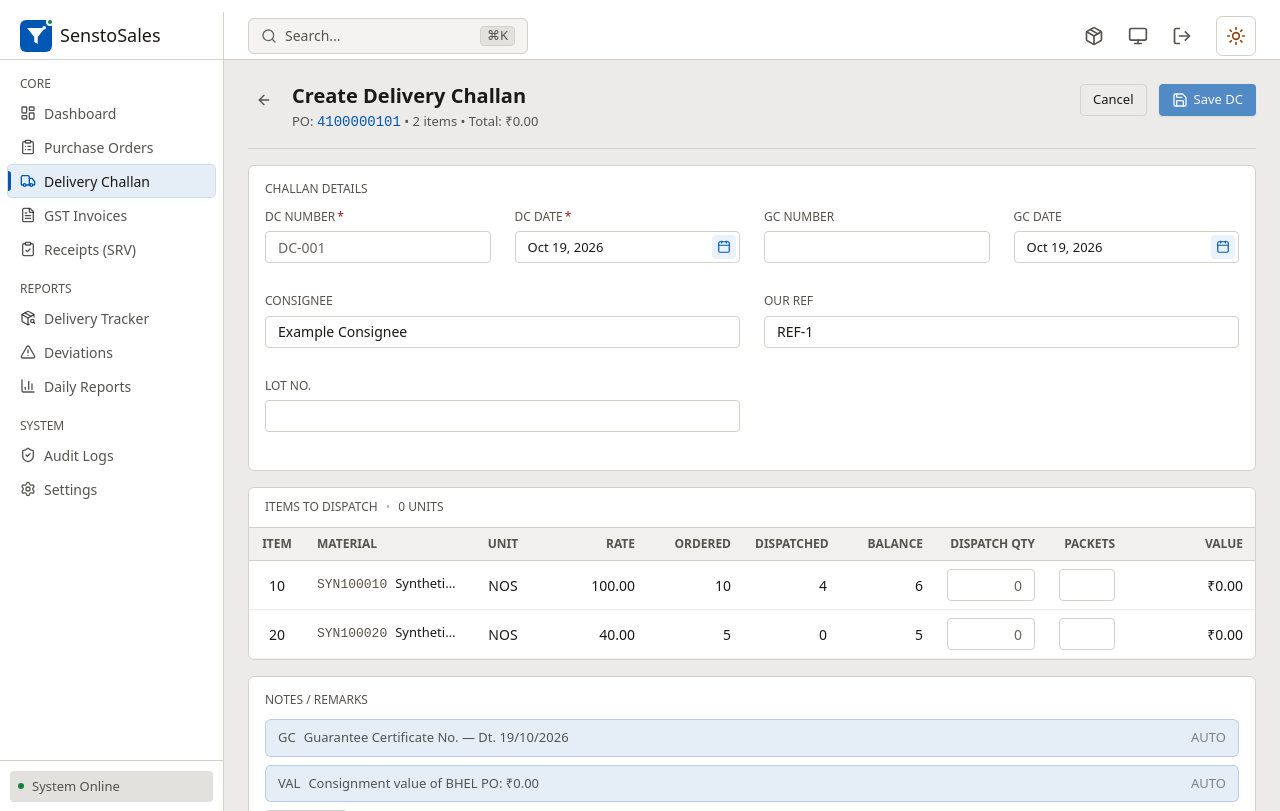
/dc/create (SPEC-18 PR 2) › asks for a quantity before saving
In the field labelled "DC Number*": (378, 247) left=265, top=231, right=490, bottom=263, type "18"
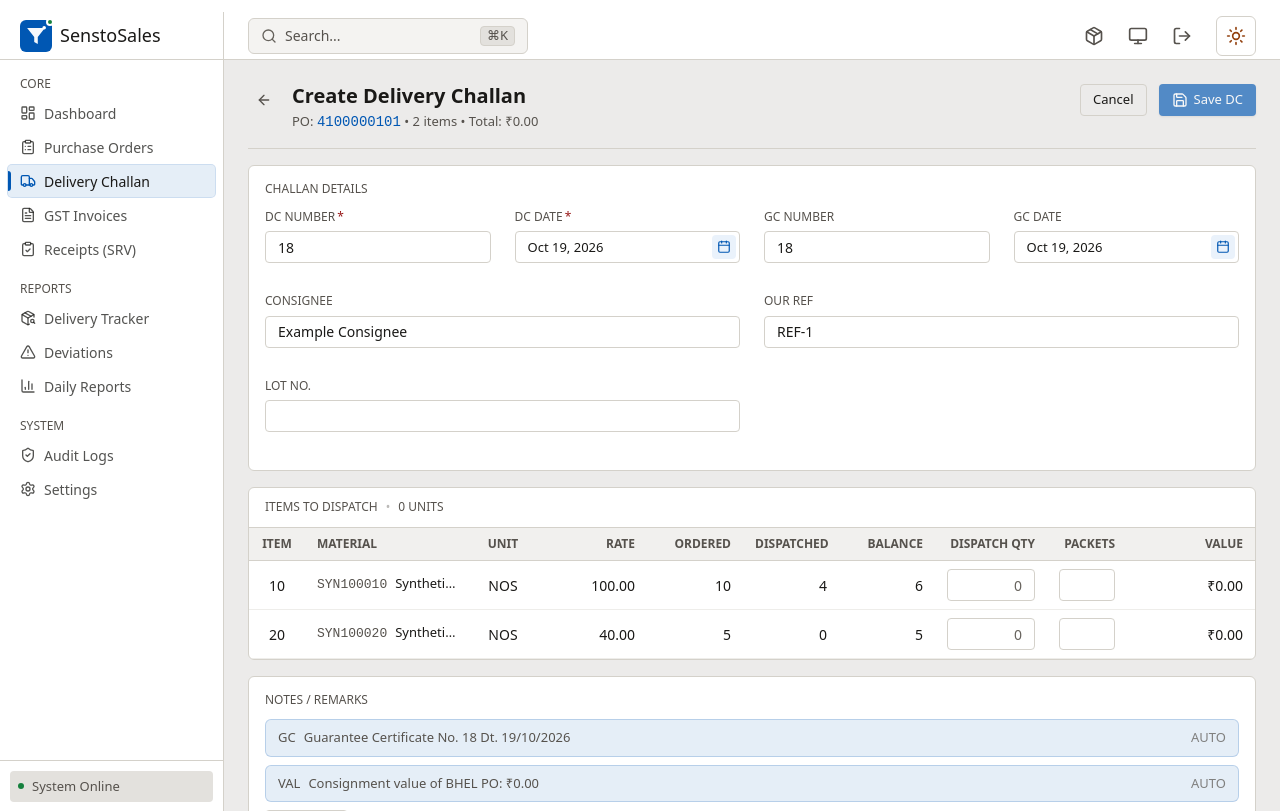
Replace the text in the field labelled "DC Date*" with "02/05/2025": (627, 247) left=514, top=231, right=740, bottom=263
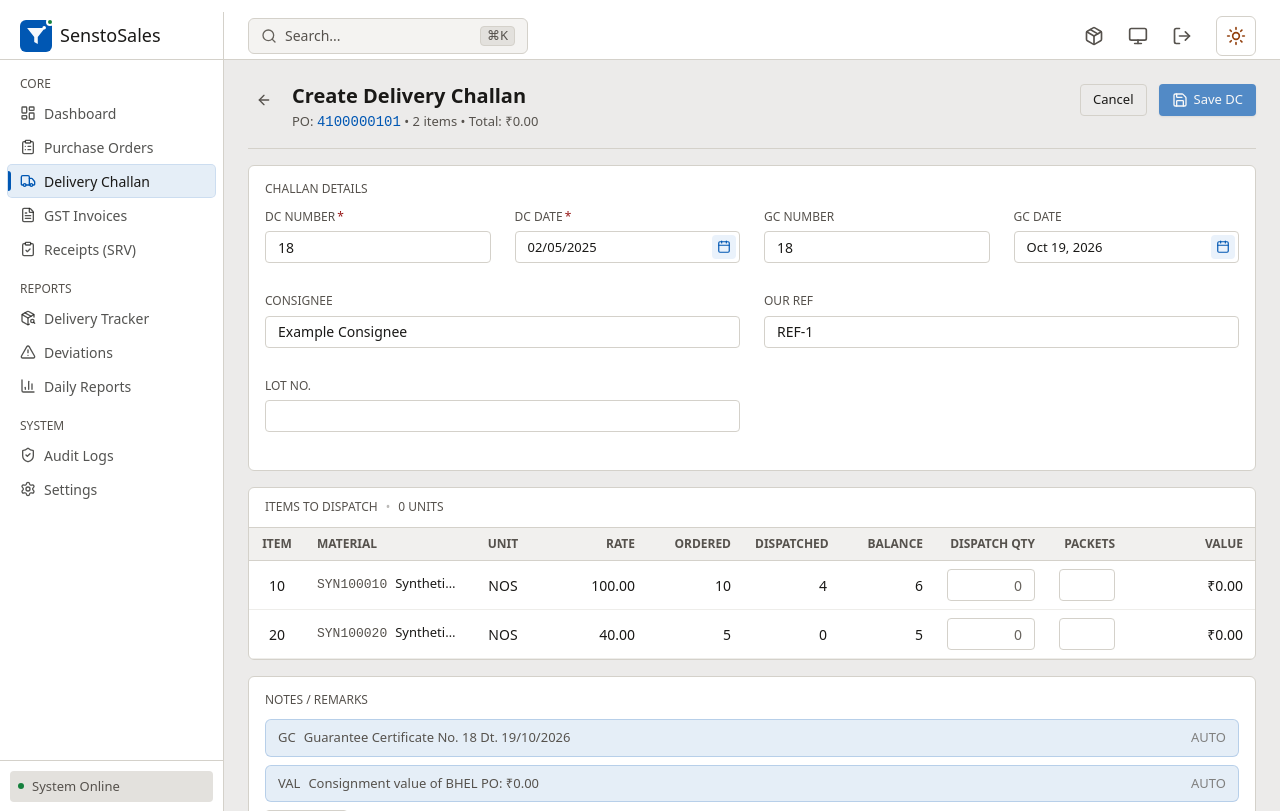
Leave the field labelled "DC Date*", box left=514, top=231, right=740, bottom=263
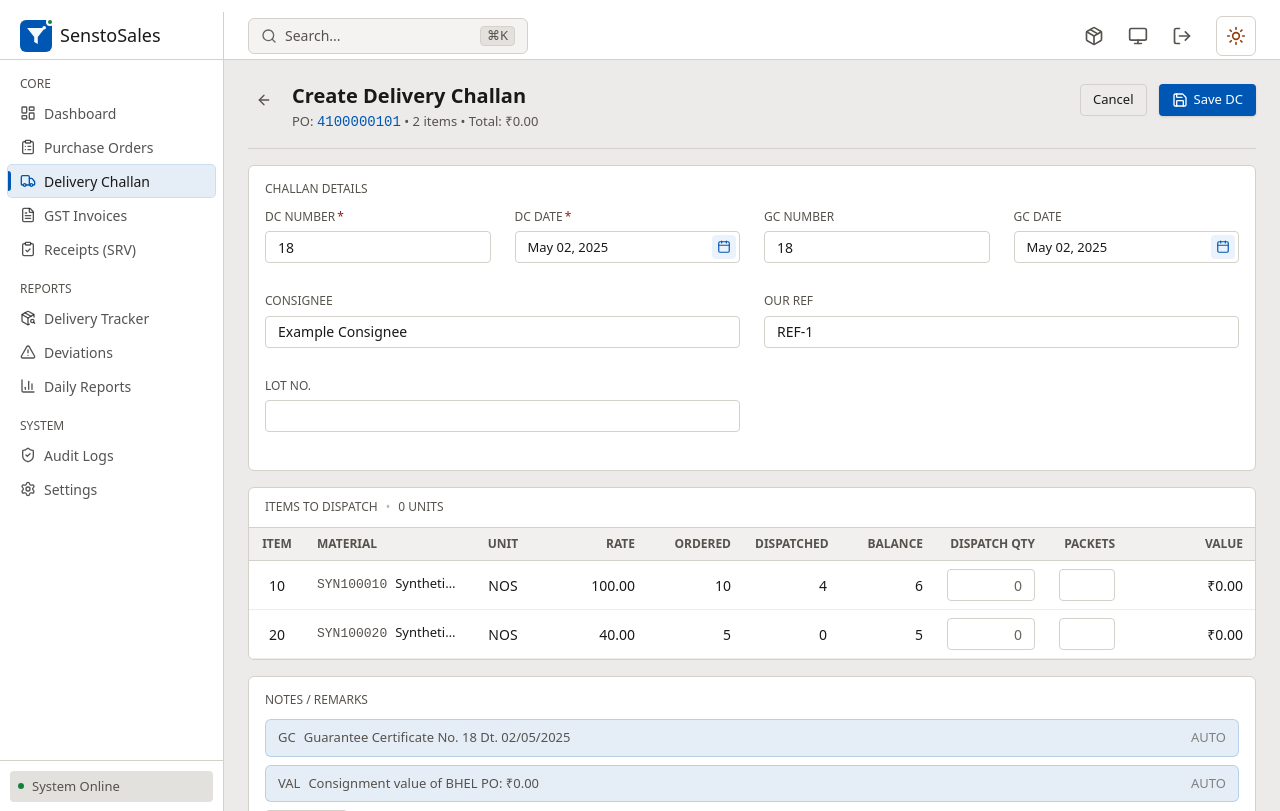
Check: the button "Save DC" is enabled
Click the button "Save DC": (1207, 100) left=1158, top=84, right=1256, bottom=116
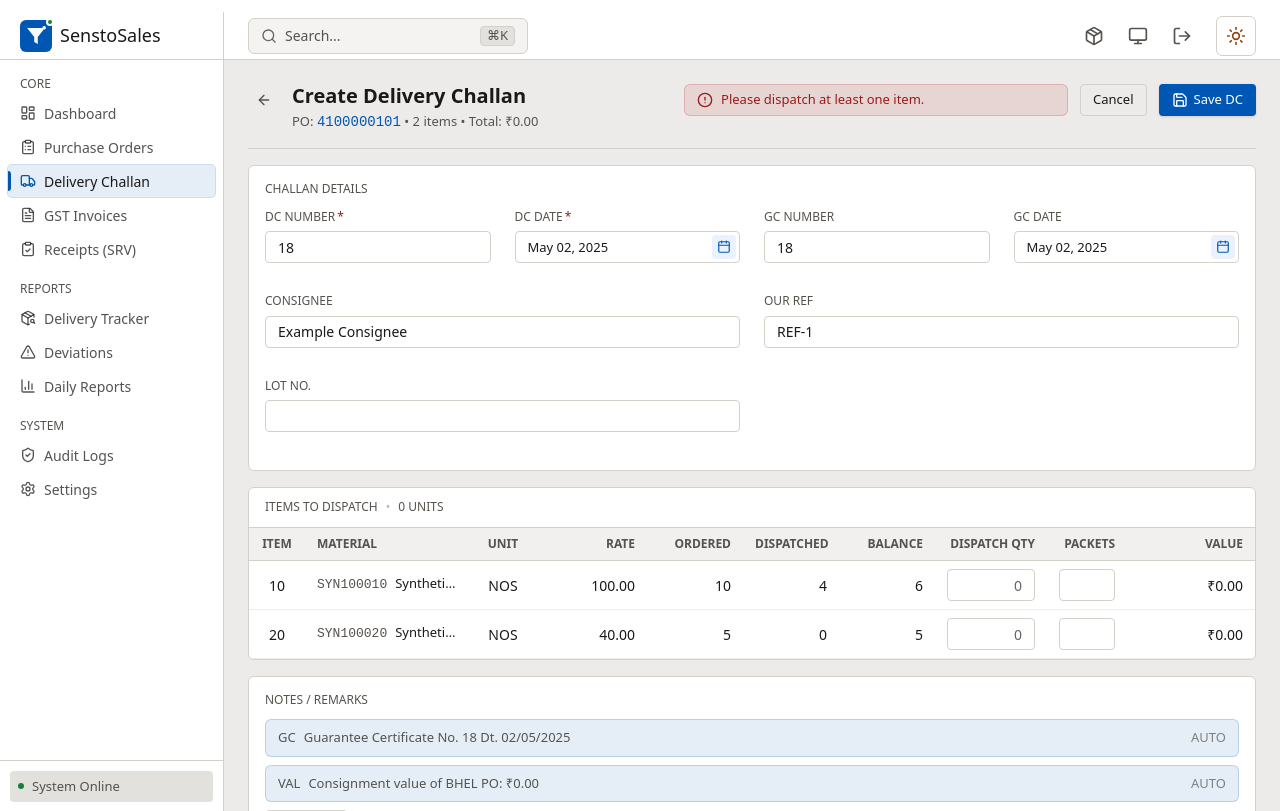
Check: the message reads "Please dispatch at least one item.", box left=721, top=90, right=924, bottom=108
